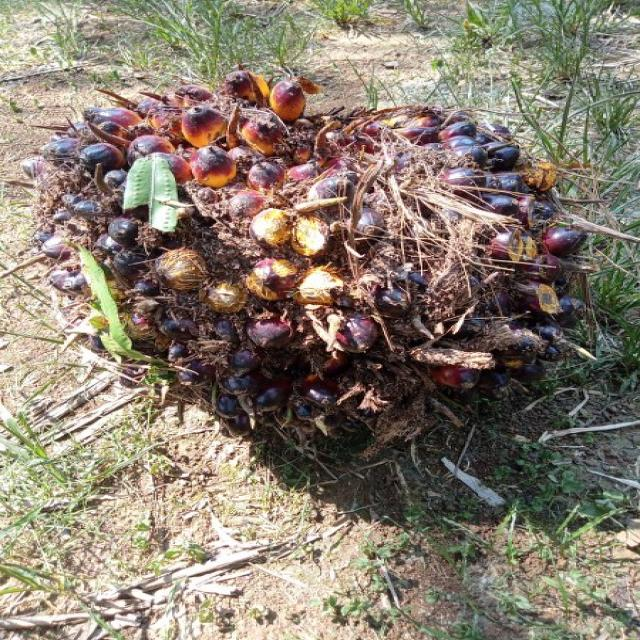fraksi 00: (25, 82, 593, 438)
